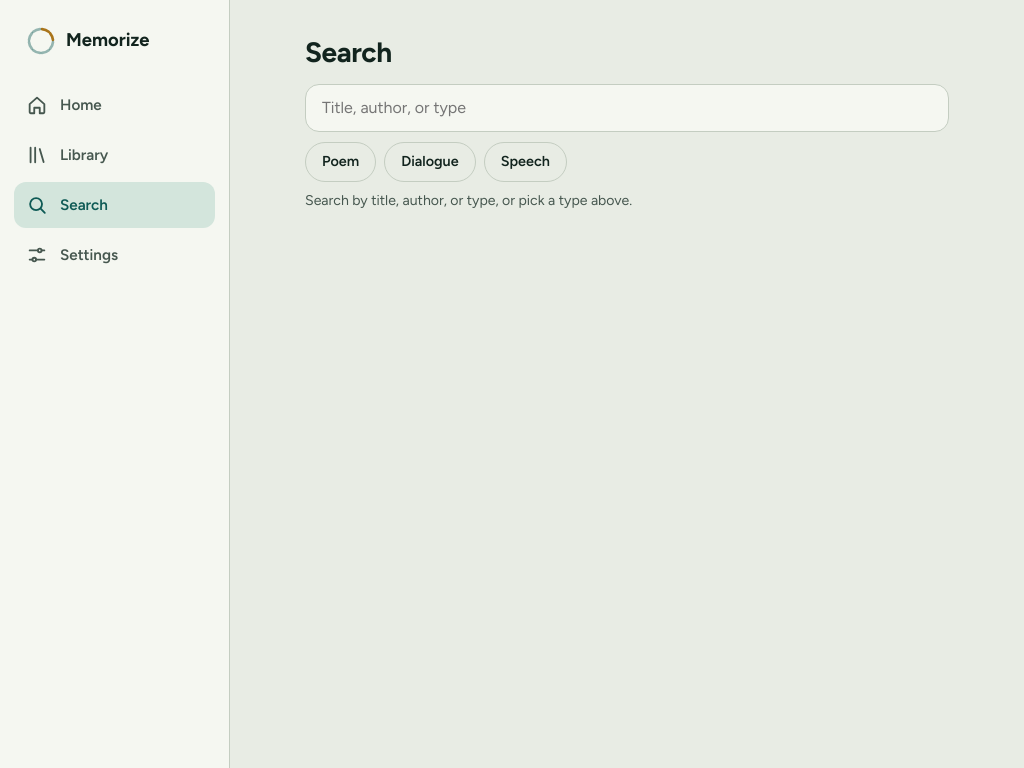
Search › filters by title, author and type, and says when nothing matches
Expected: the text "Search by title, author, or type, or pick a type above." is shown, [305,192,632,209]
Step 1. Type "tuhfa" into the search field named "Search the library" → (627, 108), box [305,84,949,132]
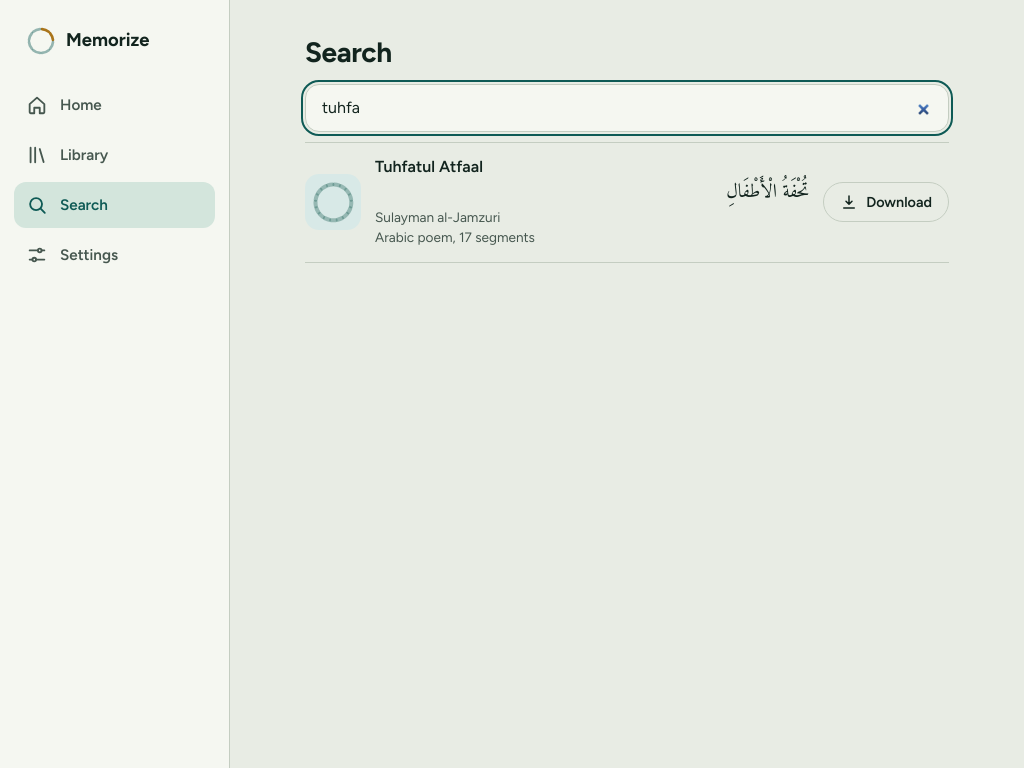
Step 2. Replace the text in the search field named "Search the library" with "JAMZURI" → (627, 108), box [305,84,949,132]
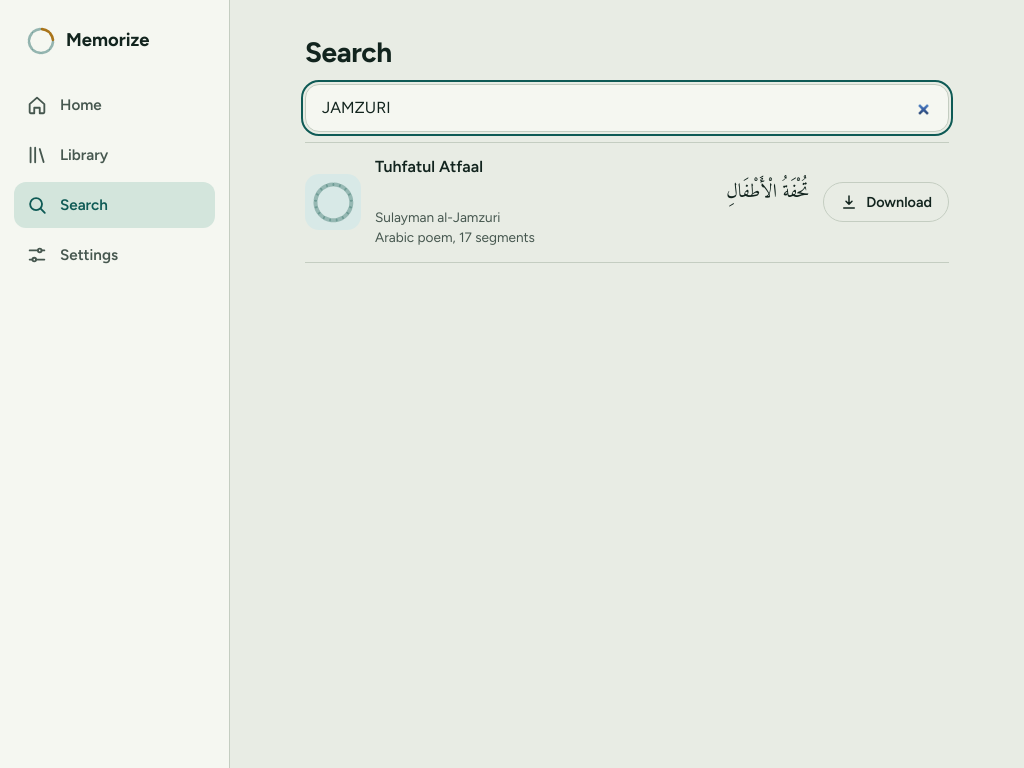
Step 3. Replace the text in the search field named "Search the library" with "zzz" → (627, 108), box [305,84,949,132]
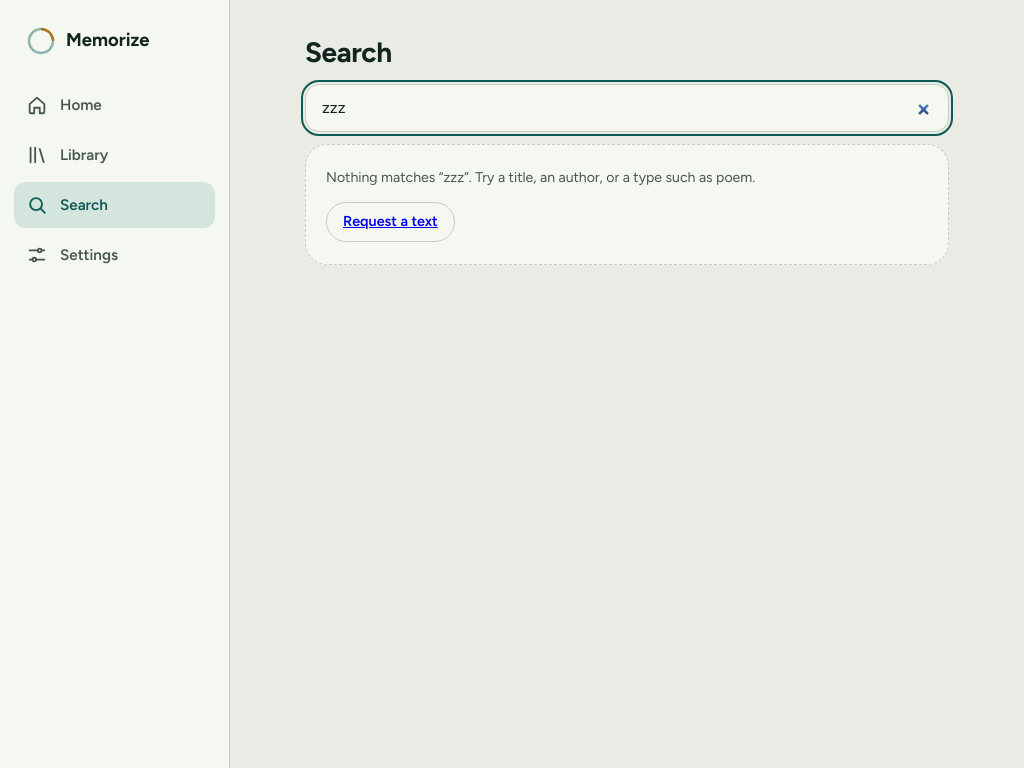
Expected: the text "Nothing matches “zzz”" is shown, [326,169,755,186]
